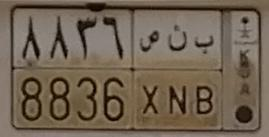3: (76, 16, 98, 123)
6: (100, 15, 126, 123)
8: (20, 15, 43, 121), (49, 16, 71, 121)
B: (194, 34, 215, 115)
N: (167, 24, 188, 116)
X: (139, 29, 159, 116)
